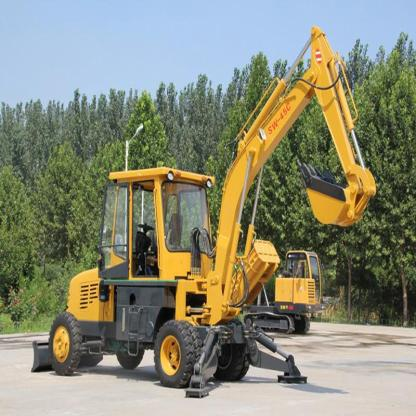excavator: (52, 27, 366, 392)
